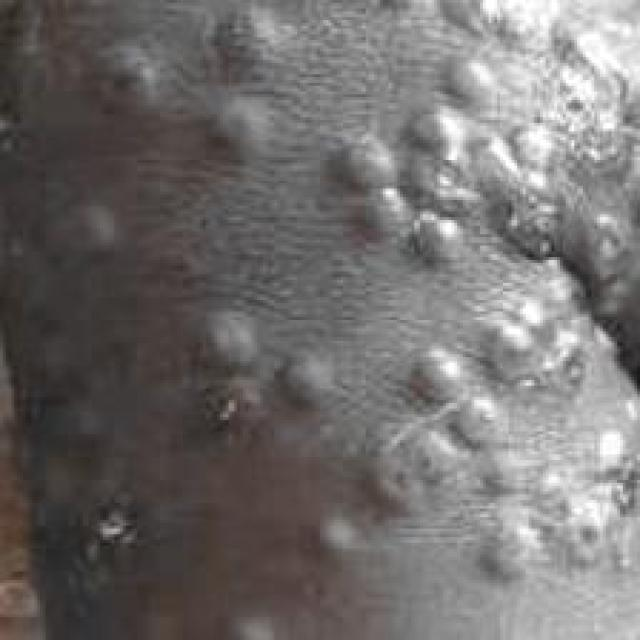monkeypox: (20, 0, 640, 606)
